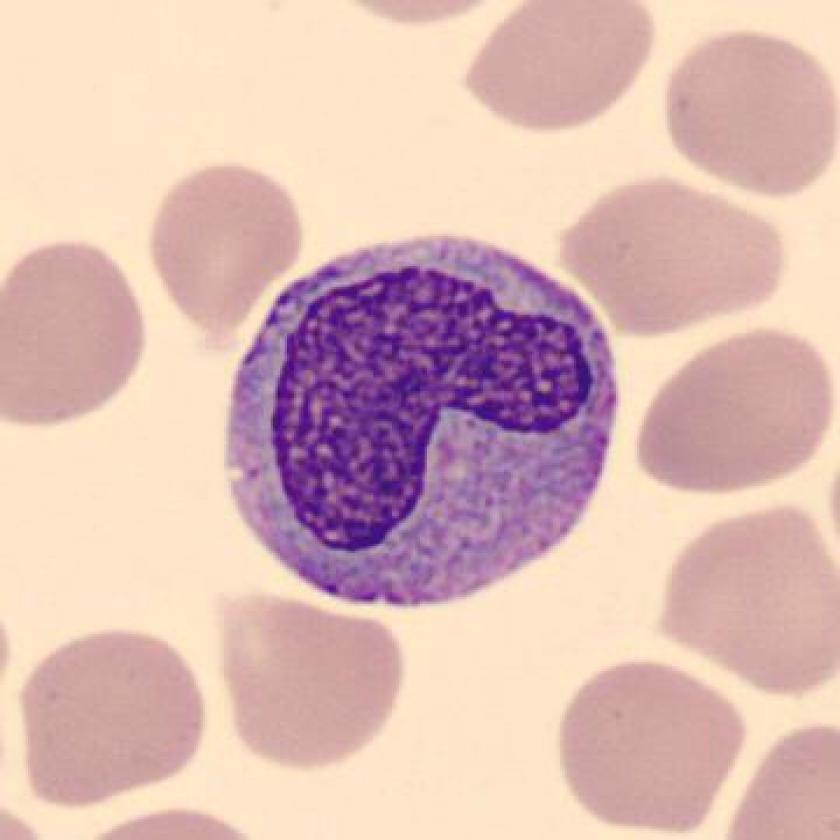monocyte: (211, 221, 636, 628)
